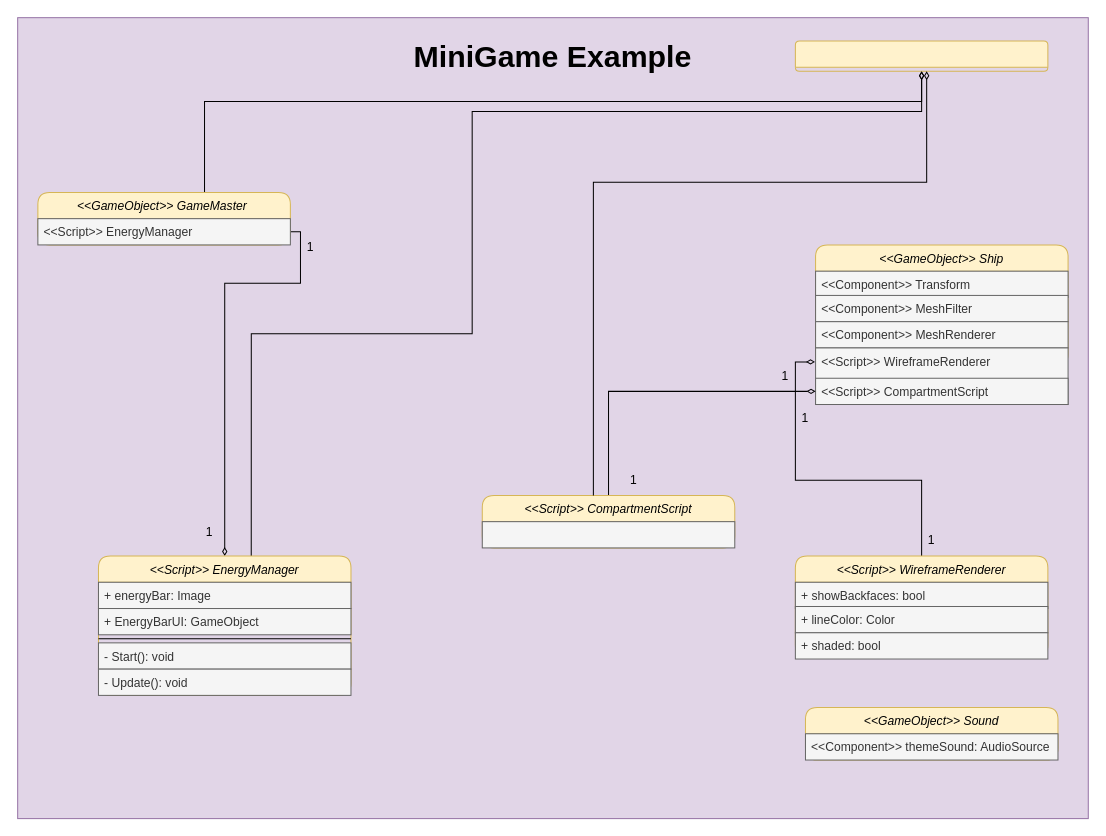
The diagram is 1106 pixels wide and 836 high, and some of its shapes have lost their labels. The box of each missing label's shape, as (x1, y1, x2, y2) in pixels:
+ gameSceneToLoad: string: (481, 521, 735, 548)
MonoBehaviour: (794, 40, 1048, 71)
